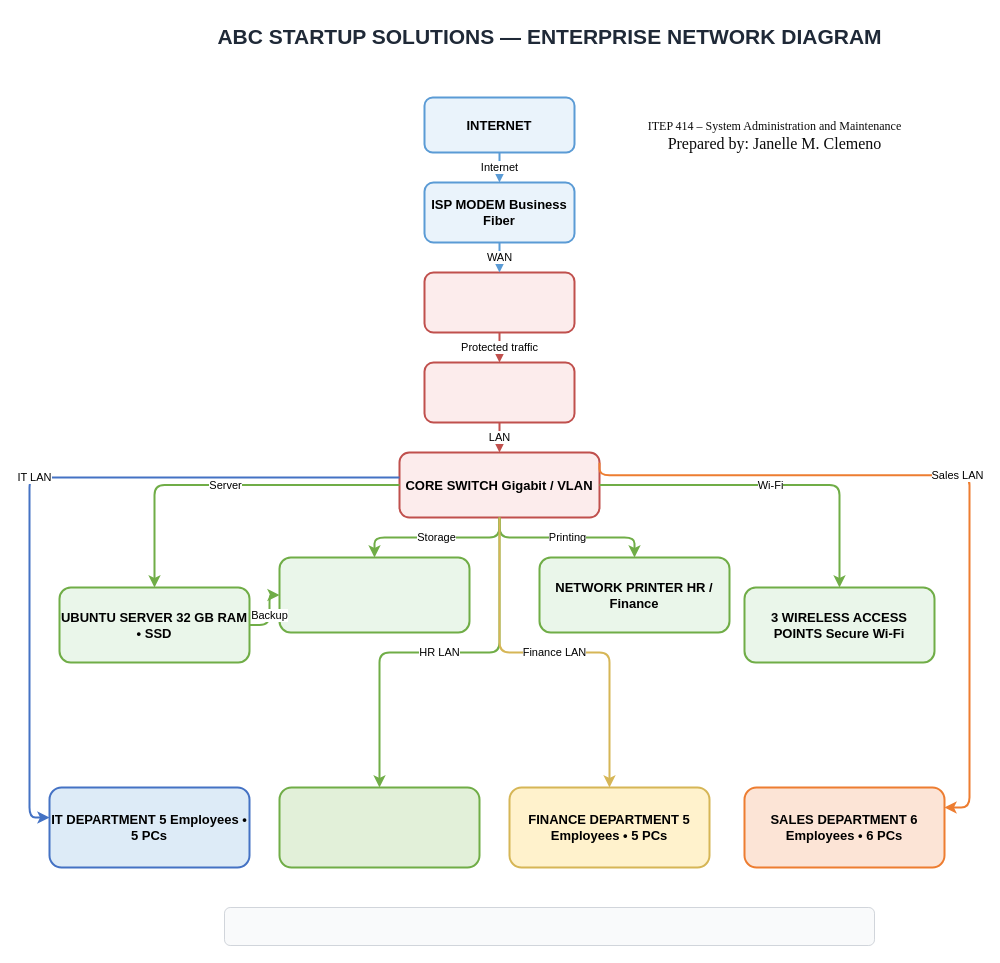
This 1000x963 diagram has some shape labels left out. The centre of each missing label's shape, as x and y in pixels:
"FIREWALL Network Security" belongs at point (499, 392).
"HR DEPARTMENT 4 Employees • 4 PCs" belongs at point (379, 827).
"NAS STORAGE Shared Files / Backup" belongs at point (374, 594).
"Physical network: CAT6 cabling • Patch Panel • RJ45 connectors • UPS protection" belongs at point (549, 926).
"ROUTER NAT / DHCP" belongs at point (499, 302).
